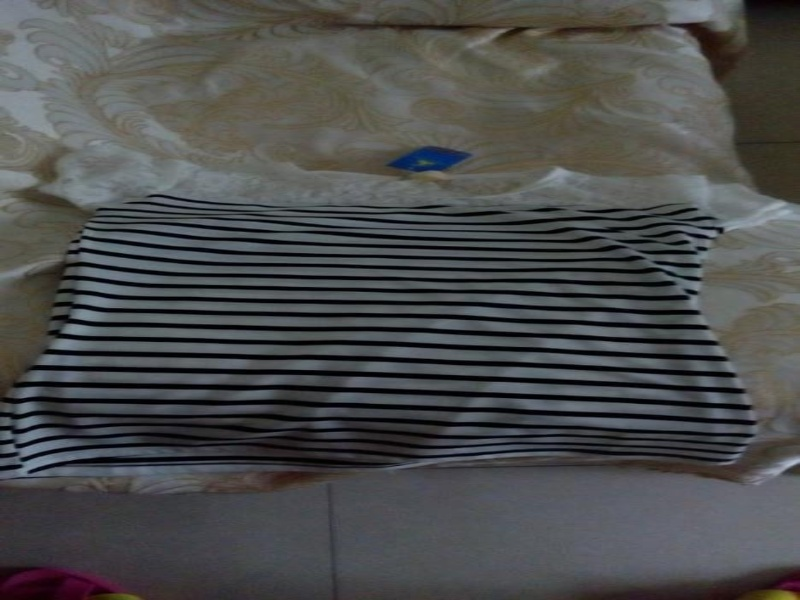short_sleeved_shirt: (0, 138, 797, 482)
